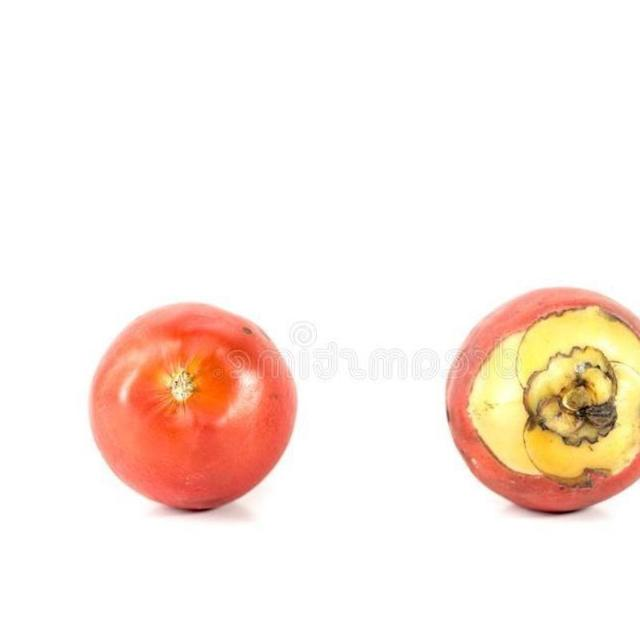good: (87, 302, 301, 513), (444, 287, 639, 516)
